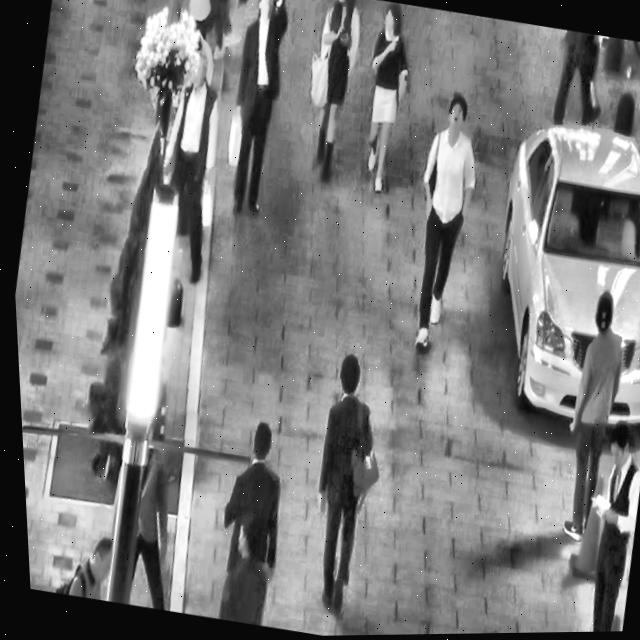light_vehicle: (456, 96, 640, 446)
